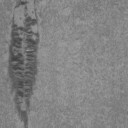oxide scale of plate system: (6, 0, 41, 128)
